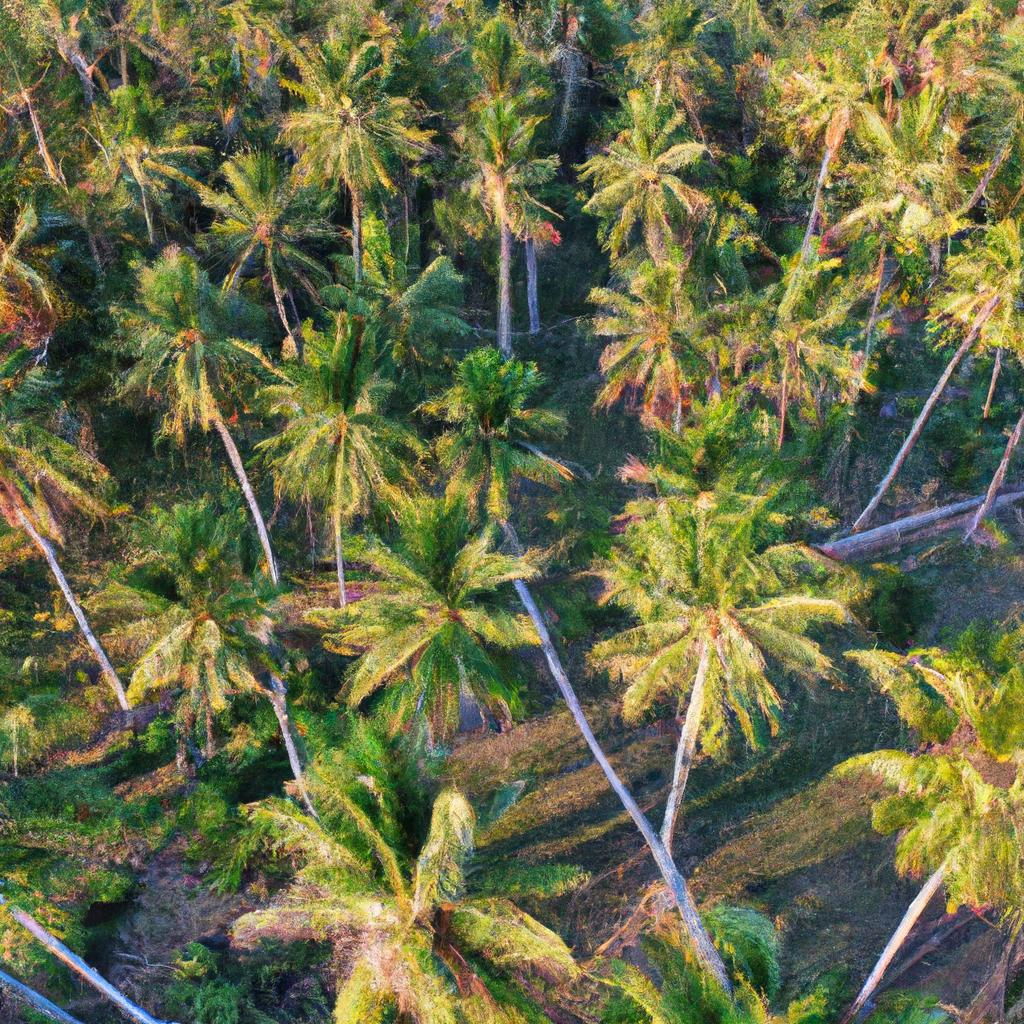coconut_tree: (564, 466, 853, 777), (311, 491, 540, 743), (92, 511, 341, 724), (107, 262, 277, 451), (580, 258, 735, 421), (580, 94, 729, 247)
